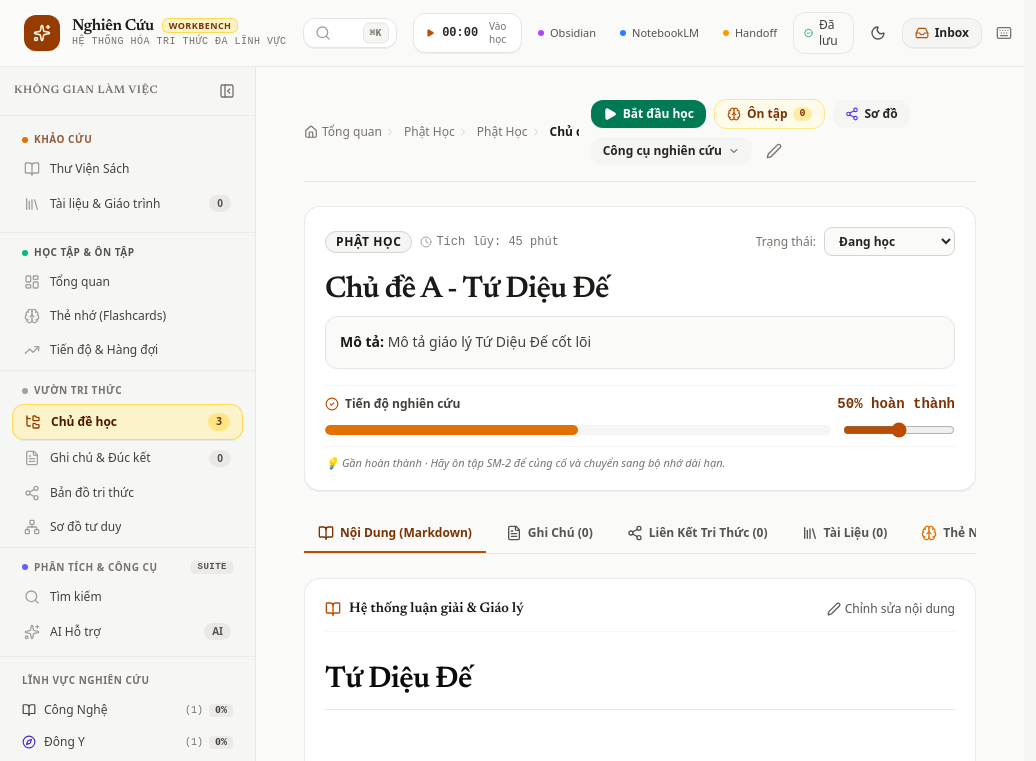
Scenario: Sidebar Category Navigation Integration Tests (Test-First) › Scenario 1: Chuyển lĩnh vực từ màn hình chi tiết chủ đề
expect the heading "Chủ đề A - Tứ Diệu Đế" is shown: met, box [325, 275, 609, 305]
Click the button "Công Nghệ (1) 0%" at (128, 710), box [12, 696, 243, 724]
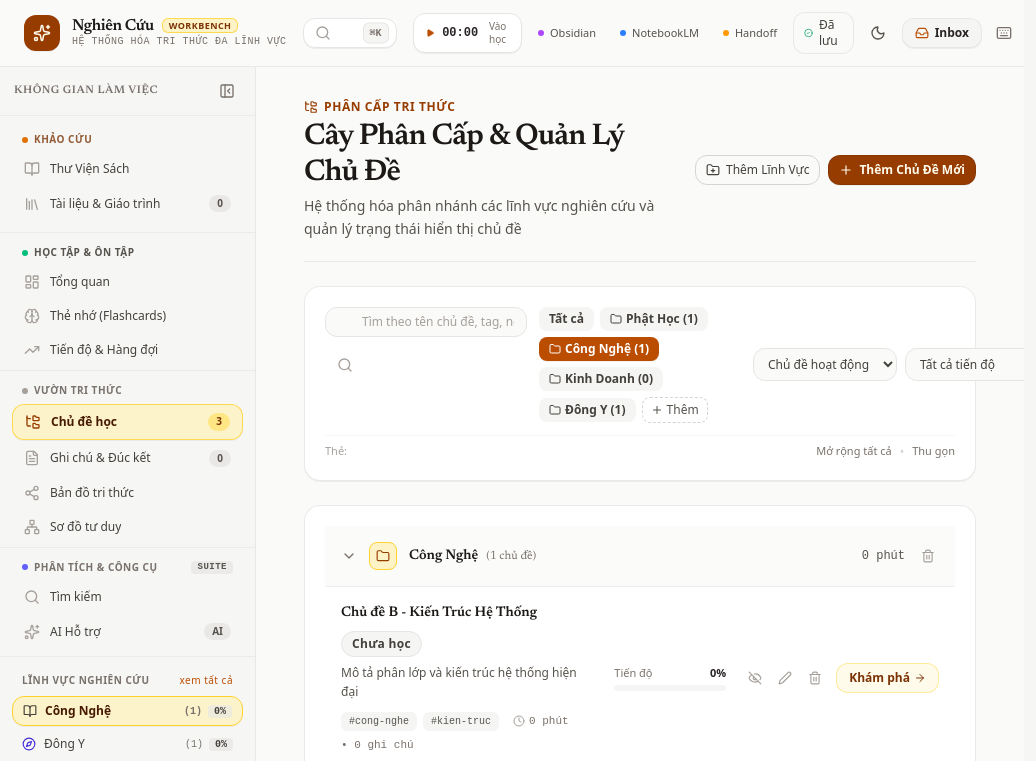
expect the text "Chủ đề A - Tứ Diệu Đế" is gone: met
expect the heading "Chủ đề B - Kiến Trúc Hệ Thống" is shown: met, box [341, 602, 537, 622]
